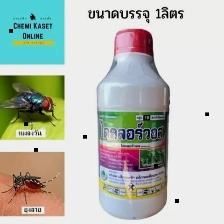insecticide: (95, 24, 171, 222)
